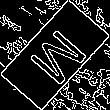M_SE: (20, 21, 90, 89)
